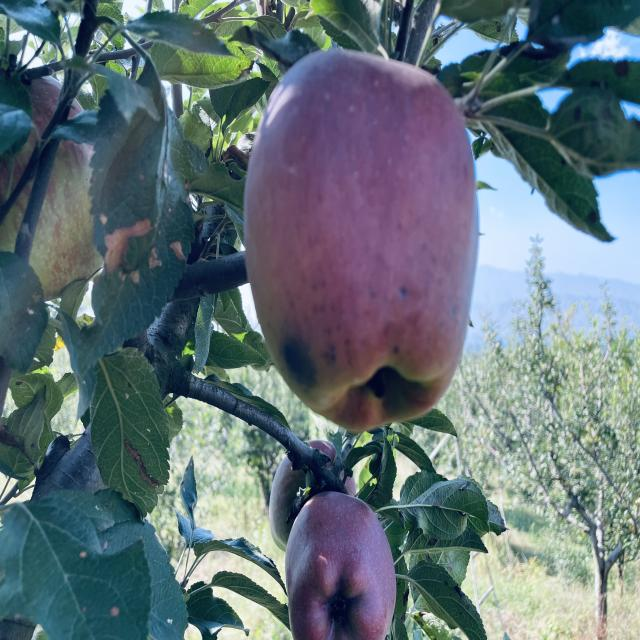Apple: (245, 50, 478, 432), (285, 492, 396, 640)
